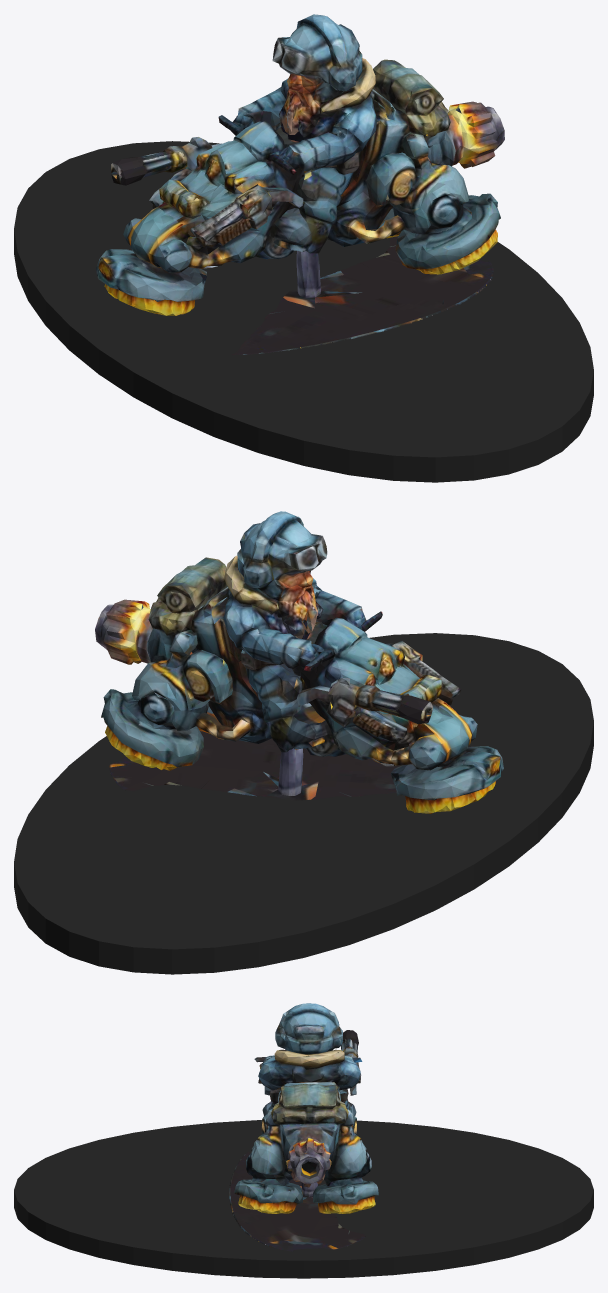
File: hernkyn-pioneer.glb
3 renders of one model, top to bottom at view 1: azimuth 30°, elevation 25°; view 2: azimuth 150°, elevation 25°; view 3: azimuth 270°, elevation 25°, orthographic. The views are drawn at different scales.
Parts seen in each view (by area): view 1: base, figure; view 2: base, figure; view 3: base, figure.
Boxes of the visible parts, <box> form: base: <box>14,141,593,482</box>; figure: <box>96,14,504,354</box>; base: <box>14,633,593,974</box>; figure: <box>95,511,503,813</box>; base: <box>14,1120,593,1278</box>; figure: <box>229,1003,378,1251</box>.
Bounding box in the file's own units: 2.05 × 1.42 × 3.54.
2 materials, 1 textured.
